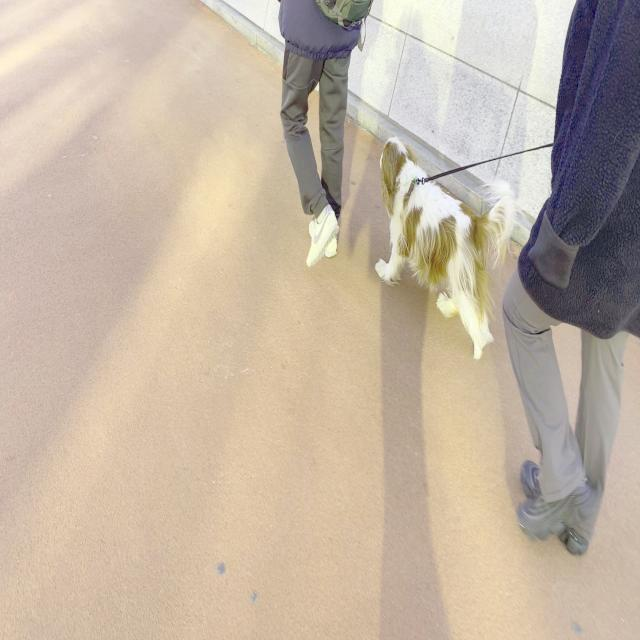Leashed_Dog: (374, 137, 598, 360)
